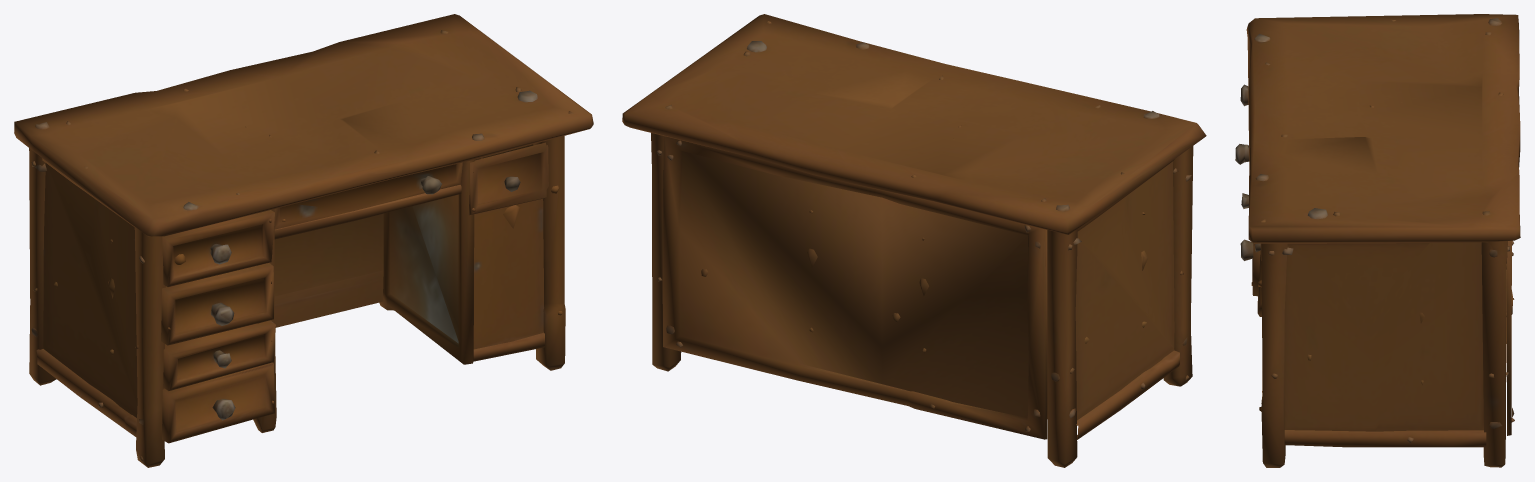
Rendered from office_desk.glb.
The picture shows the model from 3 angles, left to right: view 1: azimuth 30°, elevation 25°; view 2: azimuth 150°, elevation 25°; view 3: azimuth 270°, elevation 25°; orthographic projection.
Visible parts, largest first — view 1: office_desk_LOD0; view 2: office_desk_LOD0; view 3: office_desk_LOD0.
Part boxes in pixels (x1=…): office_desk_LOD0: x1=14, y1=14, x2=593, y2=467; office_desk_LOD0: x1=622, y1=14, x2=1206, y2=467; office_desk_LOD0: x1=1235, y1=14, x2=1520, y2=467.
Size of what is drawn, in the model's own units: 1.4 by 0.7696 by 0.7808.
1 material, 1 textured.
